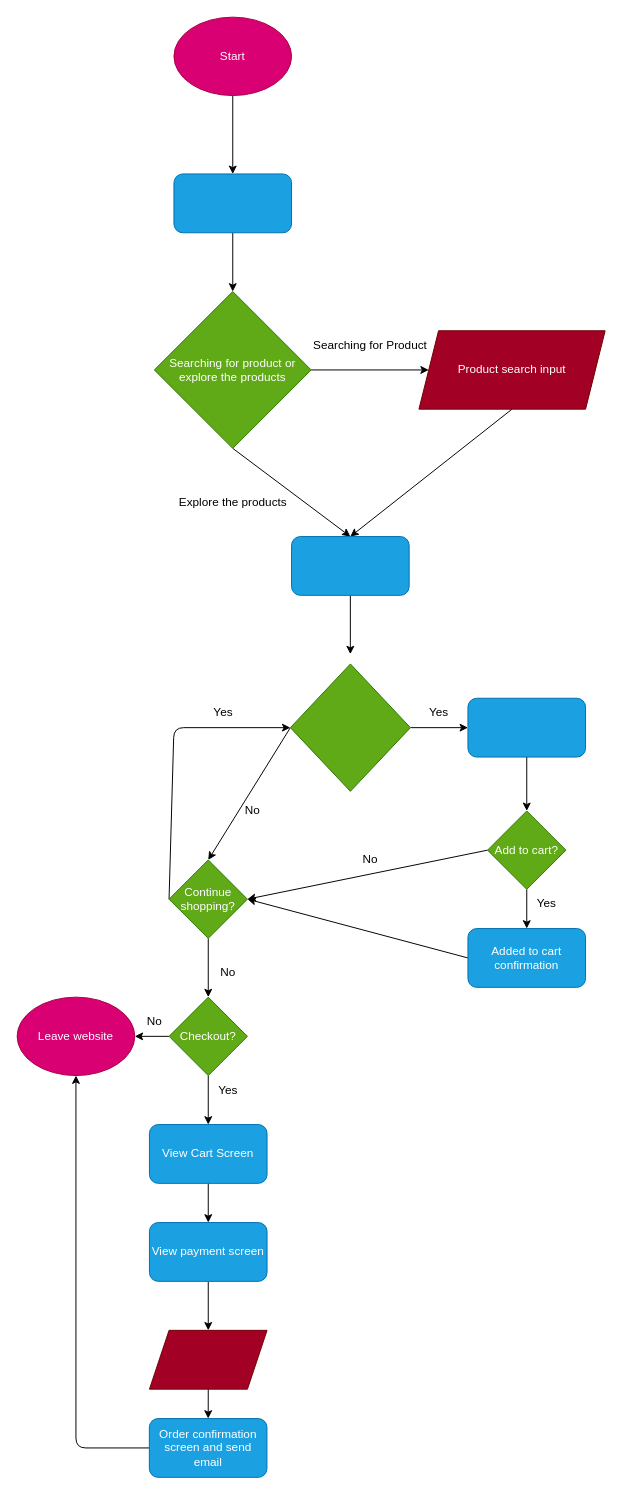
This 622x1495 diagram has some shape labels left out. The centre of each missing label's shape, as x and y in pixels:
Input payment information: pixel 207 1359
Looking over the products: pixel 350 565
Product webpage open: pixel 526 727
User enters the website: pixel 232 203
View a specific product?: pixel 349 727
